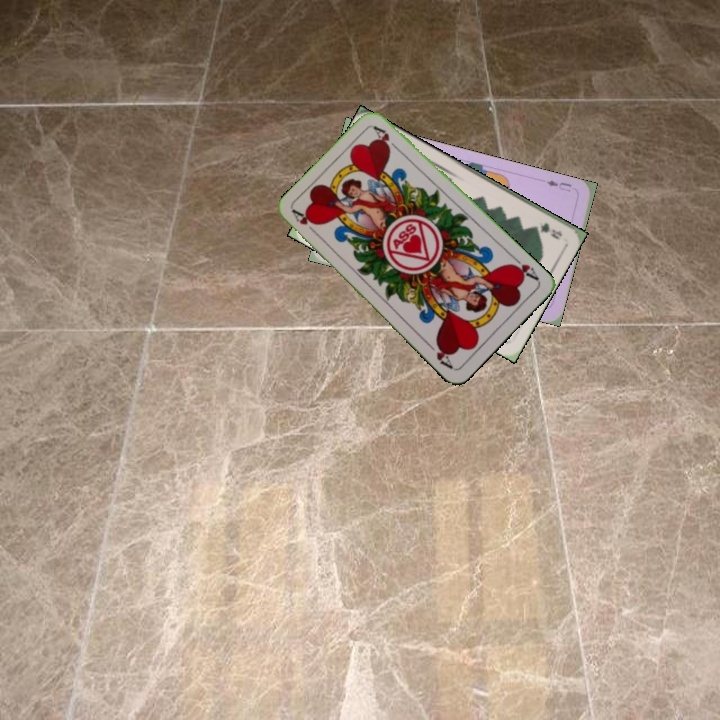EU: (539, 176, 574, 195)
G9: (536, 218, 565, 242)
HA: (506, 252, 542, 283), (289, 206, 322, 239)
